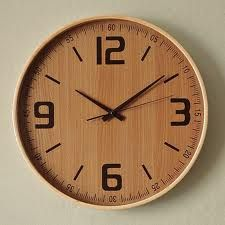clock: (17, 19, 204, 206)
